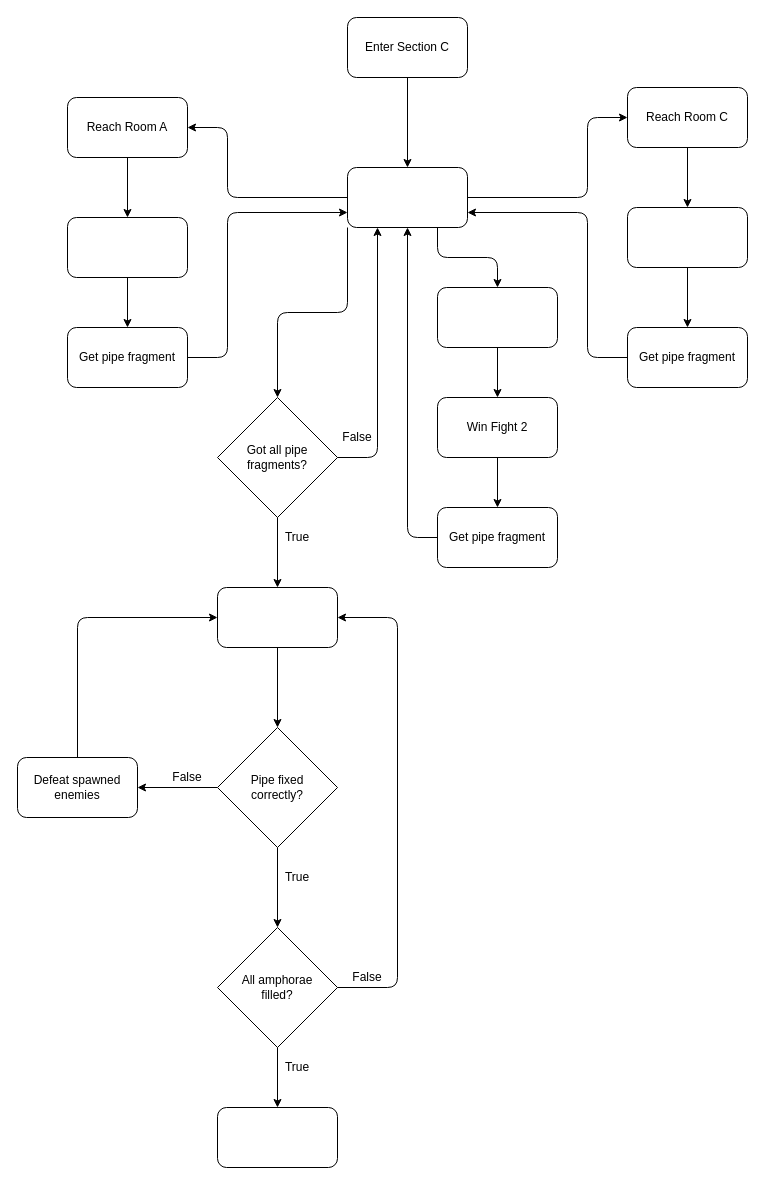
The diagram is 765 pixels wide and 1185 high, and some of its shapes have lost their labels. The centre of each missing label's shape, as x and y in pixels:
Fix a new pipe: the point at 277,617
Open door and ENter Boss Arena: the point at 277,1137
Reach Hall: the point at 407,197
Reach Room B: the point at 497,317
Win Fight 1: the point at 127,247
Win Fight 3: the point at 687,237
